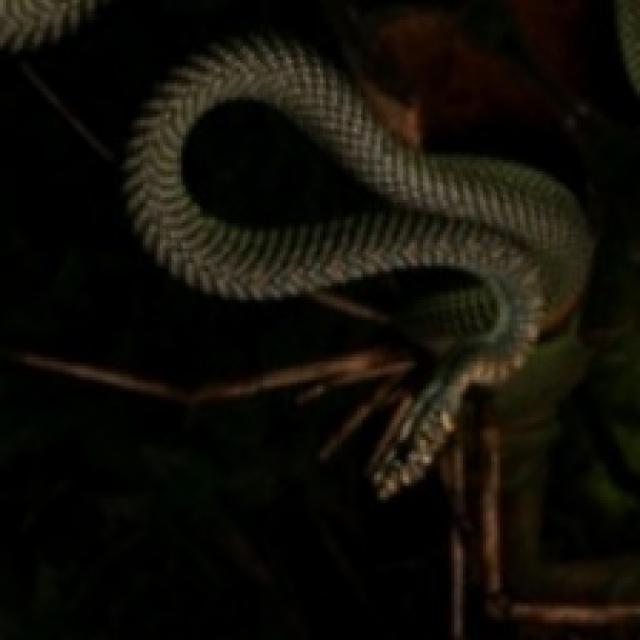paradise tree snake: (126, 37, 589, 494), (180, 97, 389, 226)
